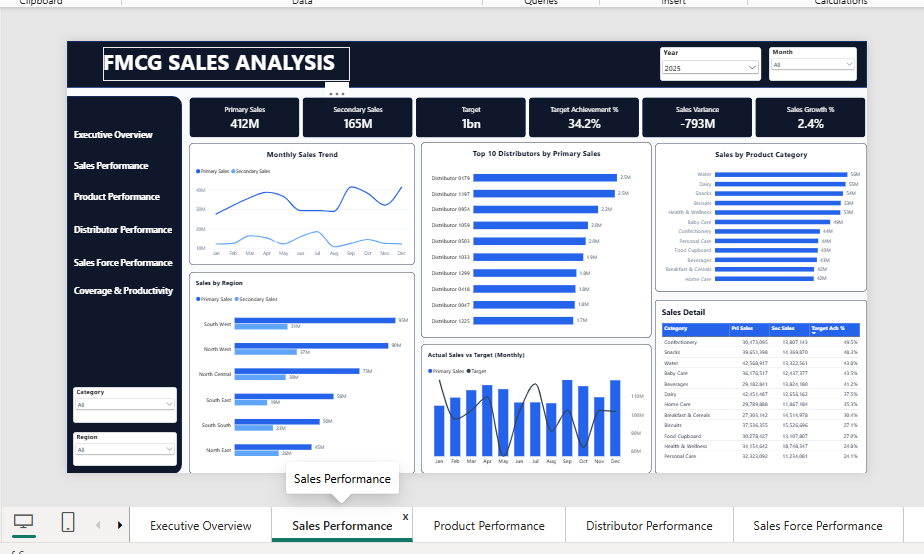

What the dashboard file says about the page in this screenshot:
{"tool":"powerbi","page":{"name":"Sales Performance","canvas":[2000,1082],"ordinal":1},"visuals":[{"type":"shape","box":[0,0,2000,116.7],"z":0},{"type":"textbox","box":[90,15,617.5,85],"z":1000},{"type":"shape","box":[0,137.5,287.5,945],"z":2000},{"type":"textbox","box":[17.5,297.5,237.5,32.5],"z":3000},{"type":"textbox","box":[17.5,220,215,45],"z":4000},{"type":"textbox","box":[17.5,375,255,35],"z":5000},{"type":"textbox","box":[17.5,457.5,255,37.5],"z":6000},{"type":"textbox","box":[17.5,540,255,37.5],"z":7000},{"type":"textbox","box":[17.5,610,255,37.5],"z":8000},{"type":"slicer","title":"Year","fields":{"Values":["DimDate.Year"]},"box":[1482.5,15,252.5,85],"z":40300},{"type":"slicer","title":"Month","fields":{"Values":["DimDate.Month"]},"box":[1755,15,220,85],"z":40400},{"type":"slicer","title":"Region","fields":{"Values":["DistributorMaster.Region"]},"box":[15,977.5,260,85],"z":40500},{"type":"slicer","title":"Category","fields":{"Values":["ProductMaster.Category"]},"box":[15,865,260,90],"z":40600},{"type":"cardVisual","fields":{"Data":["_measures.Primary Sales","_measures.Secondary Sales","_measures.Target","_measures.Target Achievement %","_measures.Sales Variance","_measures.Sales Growth %"]},"box":[306,140,1694,102],"z":40700},{"type":"lineChart","title":"Monthly Sales Trend","fields":{"Category":["DimDate.Month"],"Y":["_measures.Primary Sales","_measures.Secondary Sales"]},"box":[305,255,565,305],"z":40800},{"type":"lineClusteredColumnComboChart","title":"Actual Sales vs Target (Monthly)","fields":{"Category":["DimDate.Month"],"Y":["_measures.Primary Sales"],"Y2":["_measures.Target"]},"box":[884,758,576,324],"z":40900},{"type":"clusteredBarChart","title":"Sales by Region","fields":{"Category":["DistributorMaster.Region"],"Y":["_measures.Primary Sales","_measures.Secondary Sales"]},"box":[305,577.5,565,505],"z":41000},{"type":"clusteredBarChart","title":"Top 10 Distributors by Primary Sales","fields":{"Category":["DistributorMaster.Distributor_Name"],"Y":["_measures.Total Sales"]},"box":[884,252,576,490],"z":41100},{"type":"clusteredBarChart","title":"Sales by Product Category","fields":{"Category":["ProductMaster.Category"],"Y":["_measures.Total Sales"]},"box":[1470,256,530,372],"z":41200},{"type":"tableEx","title":"Sales Detail","fields":{"Values":["ProductMaster.Category","_measures.Primary Sales","_measures.Secondary Sales","_measures.Target Achievement %"]},"box":[1470,648,530,434],"z":41300}]}

Visuals, with their boxes on the page's 2000x1082 design canvas (x1, y1, x2, y2). These are canvas units, not pixel positions in the 924x554 screenshot, which may show the page scaled, cropped or inside an application window:
shape: BBox(0, 0, 2000, 117)
textbox: BBox(90, 15, 708, 100)
shape: BBox(0, 138, 288, 1082)
textbox: BBox(18, 298, 255, 330)
textbox: BBox(18, 220, 232, 265)
textbox: BBox(18, 375, 272, 410)
textbox: BBox(18, 458, 272, 495)
textbox: BBox(18, 540, 272, 578)
textbox: BBox(18, 610, 272, 648)
"Year" slicer: BBox(1482, 15, 1735, 100)
"Month" slicer: BBox(1755, 15, 1975, 100)
"Region" slicer: BBox(15, 978, 275, 1062)
"Category" slicer: BBox(15, 865, 275, 955)
cardVisual - _measures.Primary Sales x _measures.Secondary Sales: BBox(306, 140, 2000, 242)
"Monthly Sales Trend" lineChart: BBox(305, 255, 870, 560)
"Actual Sales vs Target (Monthly)" lineClusteredColumnComboChart: BBox(884, 758, 1460, 1082)
"Sales by Region" clusteredBarChart: BBox(305, 578, 870, 1082)
"Top 10 Distributors by Primary Sales" clusteredBarChart: BBox(884, 252, 1460, 742)
"Sales by Product Category" clusteredBarChart: BBox(1470, 256, 2000, 628)
"Sales Detail" tableEx: BBox(1470, 648, 2000, 1082)
